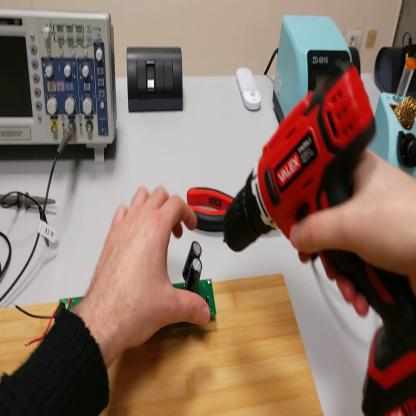electric screwdriver: (224, 71, 416, 415)
hand: (291, 143, 411, 310), (92, 184, 210, 352)
high voltage board: (12, 242, 217, 349)
oscilloscope: (2, 9, 117, 163)
oscilloscope probe tip: (2, 193, 57, 213)
pliers: (188, 185, 234, 232)
socket: (375, 42, 414, 95), (348, 47, 364, 76)
welder base: (369, 59, 415, 177)
welder station: (277, 17, 352, 128)
working area: (2, 276, 324, 413)
